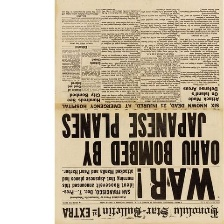news_paper: (53, 0, 224, 224)
